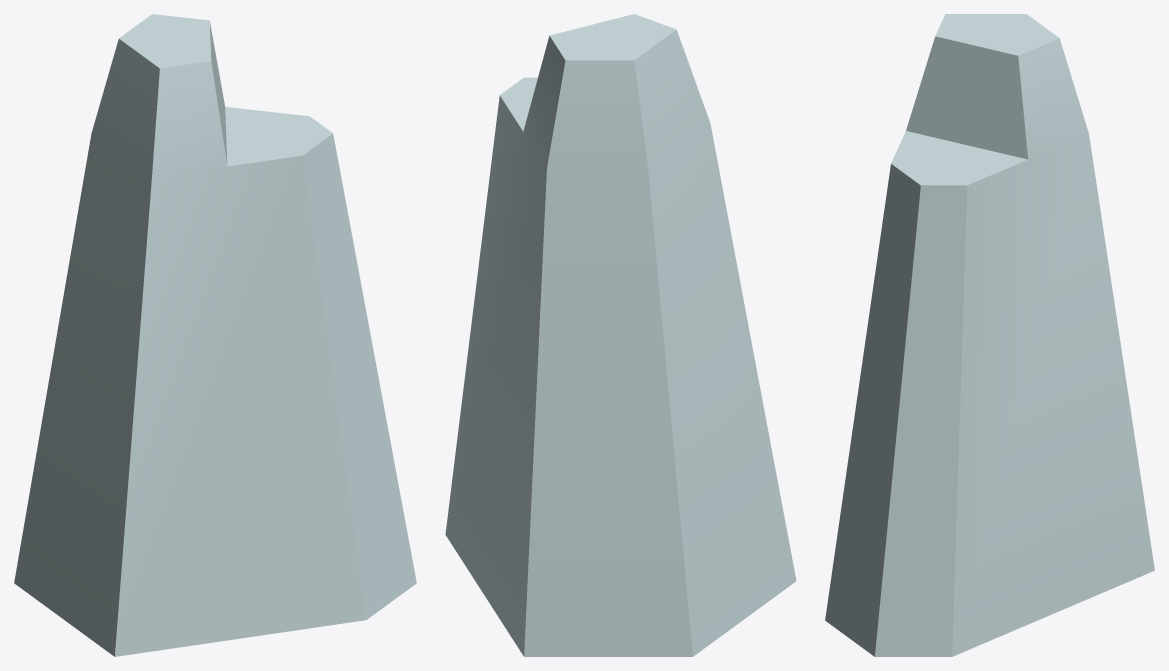
The model's file is stone_tall3.glb.
The picture shows the model from 3 angles, left to right: view 1: azimuth 30°, elevation 25°; view 2: azimuth 150°, elevation 25°; view 3: azimuth 270°, elevation 25°; orthographic projection. The views are drawn at different scales.
Parts seen in each view (by area): view 1: stone_tall3; view 2: stone_tall3; view 3: stone_tall3.
Part boxes in pixels (x1=…): stone_tall3: x1=14, y1=14, x2=416, y2=656; stone_tall3: x1=445, y1=14, x2=796, y2=656; stone_tall3: x1=825, y1=14, x2=1154, y2=656.
Bounding box in the file's own units: 0.4562 × 0.7829 × 0.4365.
